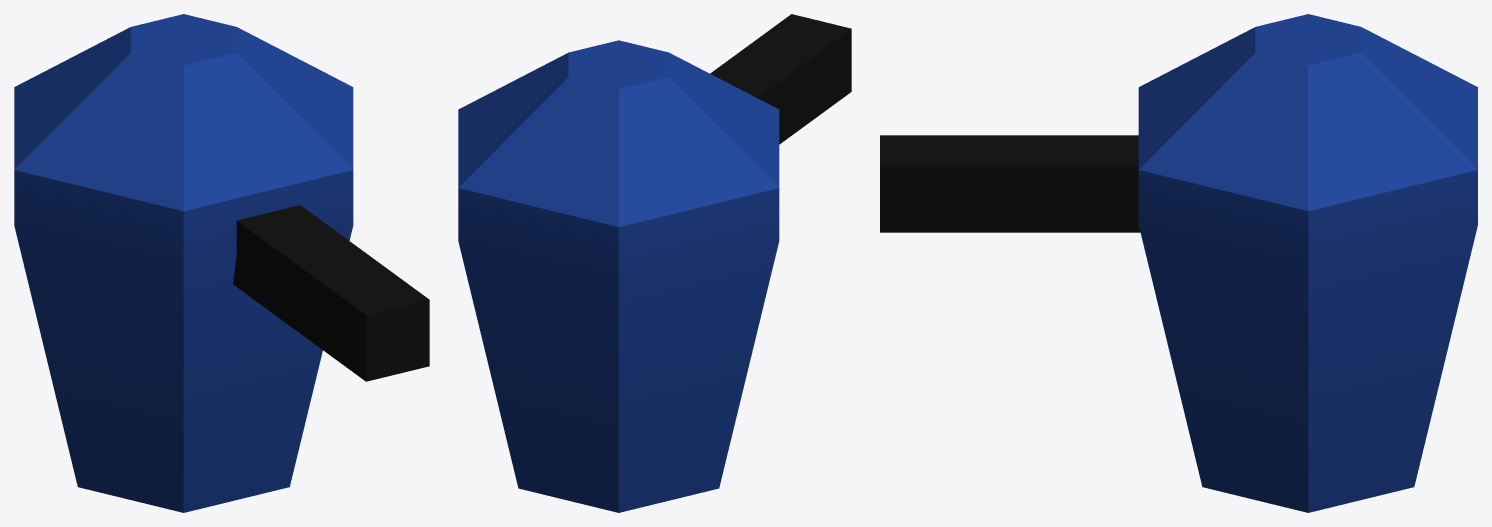
The model's file is police.yard.blue_lamp.glb.
3 views of the same model, side by side, from view 1: azimuth 30°, elevation 25°; view 2: azimuth 150°, elevation 25°; view 3: azimuth 270°, elevation 25° (orthographic). The views are drawn at different scales.
Parts seen in each view (by area): view 1: main__plastic_blue, main__plastic_black; view 2: main__plastic_blue, main__plastic_black; view 3: main__plastic_blue, main__plastic_black.
Boxes of the visible parts, x1,y1,x2,y2 form: main__plastic_blue: [14, 14, 353, 512]; main__plastic_black: [233, 205, 429, 381]; main__plastic_blue: [458, 40, 779, 512]; main__plastic_black: [710, 14, 851, 144]; main__plastic_blue: [1138, 14, 1477, 512]; main__plastic_black: [880, 135, 1140, 232].
Bounding box in the file's own units: 0.32 × 0.38 × 0.4886.
